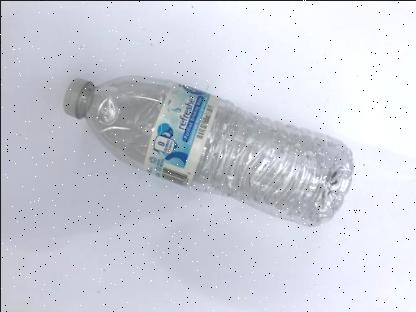Plastic Bottle: (62, 76, 353, 225)
